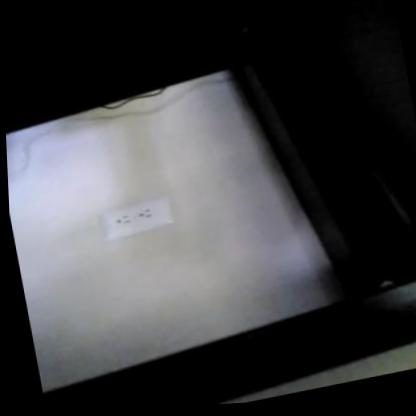OUTLET: (99, 196, 174, 240)
